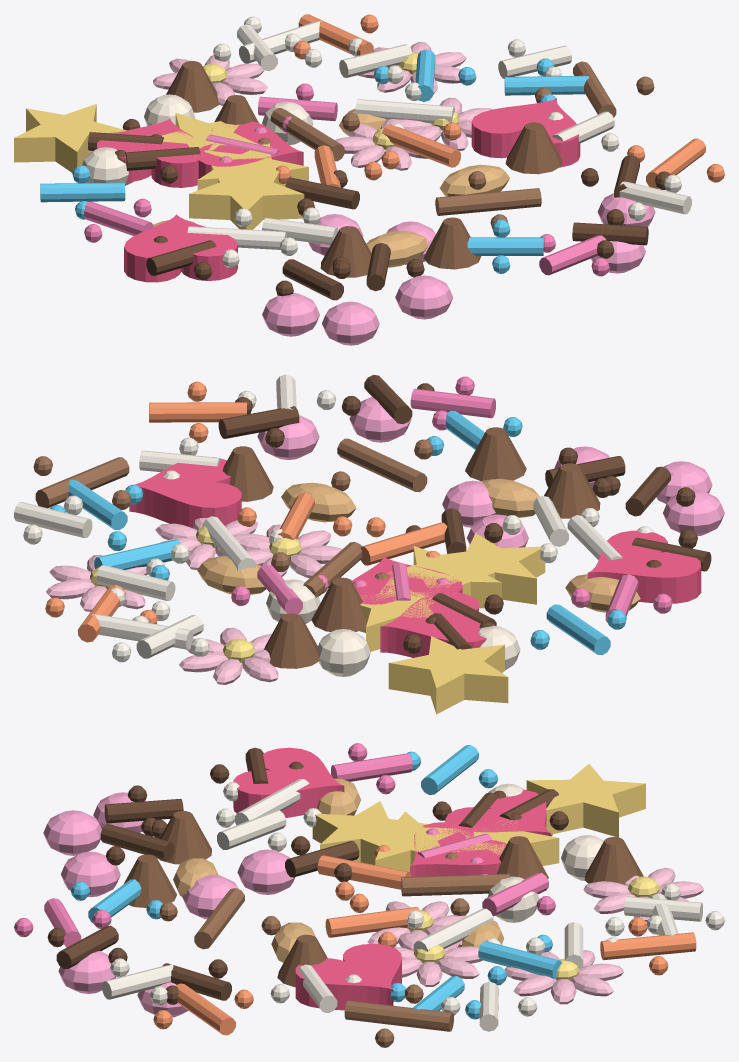
Rendered from toppings_round_3_tier.glb.
3 renders of one model, top to bottom at view 1: azimuth 30°, elevation 25°; view 2: azimuth 150°, elevation 25°; view 3: azimuth 270°, elevation 25°, orthographic. The views are drawn at different scales.
Parts seen in each view (by area): view 1: ToppingStar_round_3_00, ToppingHeart_round_3_00, ToppingStar_round_3_02, ToppingHeart_round_3_02, ToppingHeart_round_3_03, ToppingHeart_round_3_01, ToppingSprinkle_round_3_14_Body, ToppingChocolateChip_round_3_01, ToppingDot_round_3_05, ToppingDot_round_3_03, ToppingDot_round_3_07, ToppingChocolateChip_round_3_02 (+47 smaller); view 2: ToppingStar_round_3_02, ToppingHeart_round_3_02, ToppingHeart_round_3_00, ToppingStar_round_3_00, ToppingHeart_round_3_03, ToppingStar_round_3_01, ToppingHeart_round_3_01, ToppingChocolateChip_round_3_02, ToppingChocolateChip_round_3_00, ToppingChocolateChip_round_3_03, ToppingStar_round_3_03, ToppingPearlCandy_round_3_00 (+51 smaller); view 3: ToppingStar_round_3_02, ToppingHeart_round_3_02, ToppingHeart_round_3_00, ToppingStar_round_3_00, ToppingHeart_round_3_01, ToppingHeart_round_3_03, ToppingSprinkle_round_3_09_Body, ToppingDot_round_3_03, ToppingStar_round_3_01, ToppingSprinkle_round_3_04_Body, ToppingDot_round_3_06, ToppingSprinkle_round_3_17_Body (+55 smaller).
Part boxes in pixels (left/top/right/bottom): ToppingStar_round_3_00: left=189, top=165, right=304, bottom=229; ToppingHeart_round_3_00: left=124, top=214, right=237, bottom=282; ToppingStar_round_3_02: left=14, top=104, right=126, bottom=172; ToppingHeart_round_3_02: left=471, top=98, right=580, bottom=167; ToppingHeart_round_3_03: left=97, top=118, right=203, bottom=187; ToppingHeart_round_3_01: left=196, top=121, right=303, bottom=178; ToppingSprinkle_round_3_14_Body: left=435, top=188, right=541, bottom=215; ToppingChocolateChip_round_3_01: left=505, top=122, right=562, bottom=174; ToppingDot_round_3_05: left=395, top=275, right=452, bottom=319; ToppingDot_round_3_03: left=322, top=301, right=379, bottom=345; ToppingDot_round_3_07: left=262, top=293, right=319, bottom=336; ToppingChocolateChip_round_3_02: left=423, top=217, right=481, bottom=269; ToppingStar_round_3_02: left=388, top=636, right=508, bottom=714; ToppingHeart_round_3_02: left=129, top=457, right=241, bottom=528; ToppingHeart_round_3_00: left=587, top=530, right=701, bottom=603; ToppingStar_round_3_00: left=435, top=533, right=545, bottom=604; ToppingHeart_round_3_03: left=380, top=592, right=493, bottom=657; ToppingStar_round_3_01: left=386, top=546, right=501, bottom=608; ToppingHeart_round_3_01: left=352, top=556, right=462, bottom=604; ToppingChocolateChip_round_3_02: left=465, top=427, right=526, bottom=480; ToppingChocolateChip_round_3_00: left=264, top=613, right=319, bottom=668; ToppingChocolateChip_round_3_03: left=311, top=577, right=366, bottom=631; ToppingStar_round_3_03: left=359, top=576, right=456, bottom=651; ToppingPearlCandy_round_3_00: left=317, top=629, right=370, bottom=676; ToppingStar_round_3_02: left=526, top=764, right=645, bottom=837; ToppingHeart_round_3_02: left=295, top=944, right=401, bottom=1010; ToppingHeart_round_3_00: left=233, top=747, right=344, bottom=817; ToppingStar_round_3_00: left=312, top=801, right=428, bottom=864; ToppingHeart_round_3_01: left=410, top=822, right=506, bottom=876; ToppingHeart_round_3_03: left=445, top=789, right=550, bottom=836; ToppingSprinkle_round_3_09_Body: left=344, top=1000, right=453, bottom=1031; ToppingDot_round_3_03: left=43, top=810, right=101, bottom=855; ToppingStar_round_3_01: left=375, top=811, right=461, bottom=885; ToppingSprinkle_round_3_04_Body: left=401, top=873, right=510, bottom=896; ToppingDot_round_3_06: left=237, top=849, right=295, bottom=894; ToppingSprinkle_round_3_17_Body: left=600, top=932, right=696, bottom=960.
Size of the model in its own units: 0.9942 by 0.0993 by 1.02.
